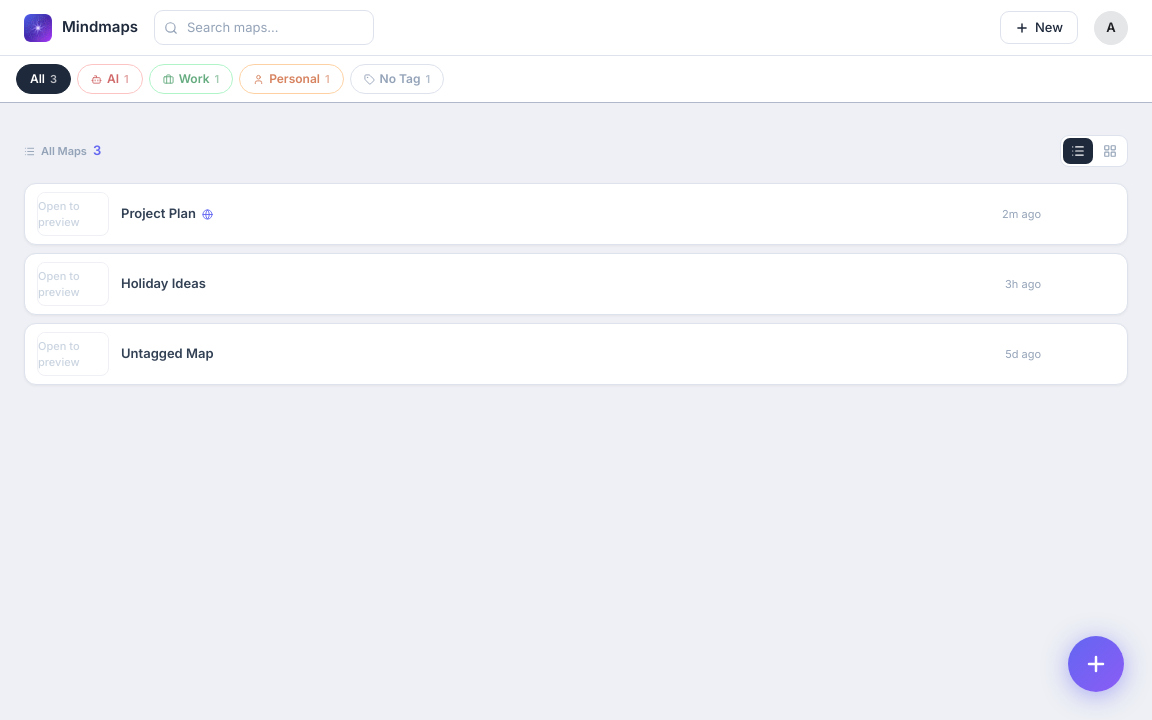
Scenario: HomePage — delete & tag editing › opens the tag edit modal from the card hover tag button
This screenshot has width=1152, height=720.
Hover over the button "Open to preview Project Plan 2m ago": (73, 214) [24,183,1128,245]
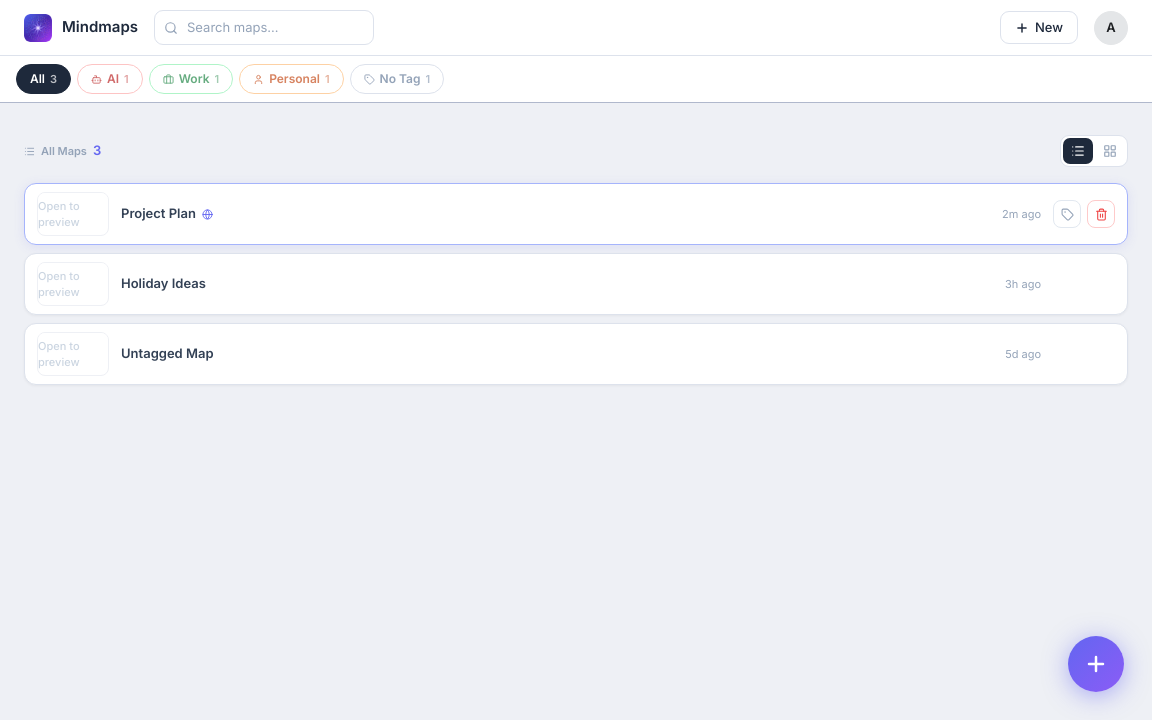
Click the button named "Edit tags for Project Plan": (1067, 214) [1053,200,1081,228]
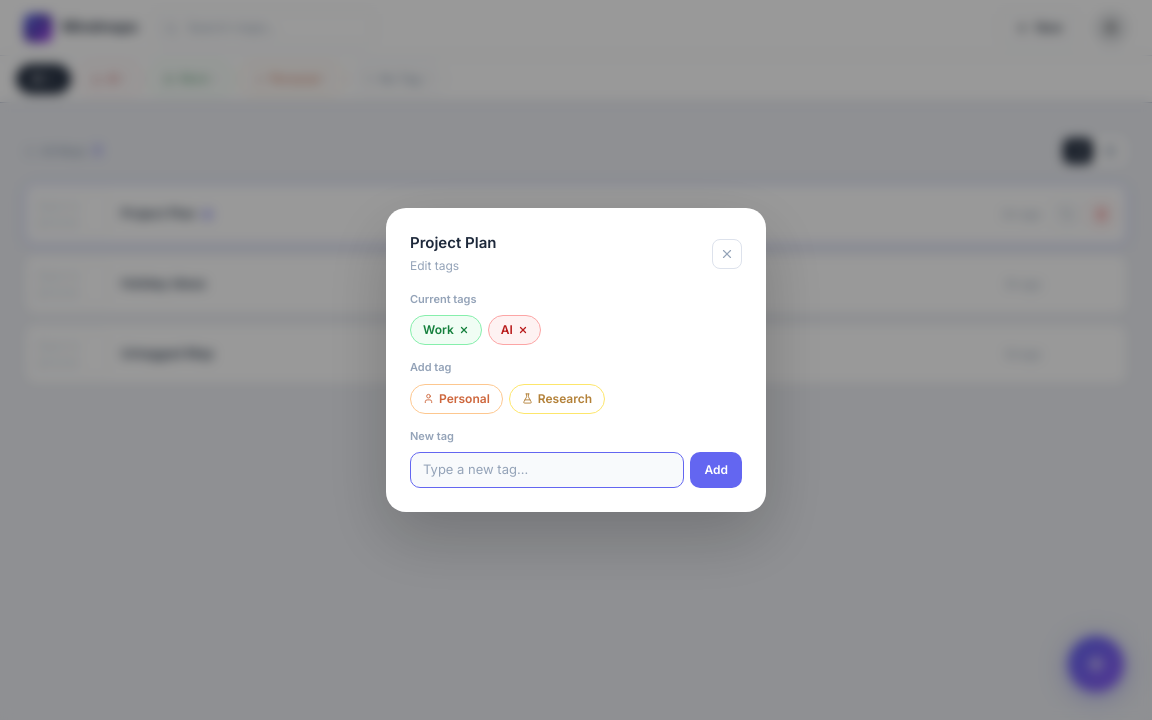
Result: the text "Edit tags" is shown at [410,258,459,273]
